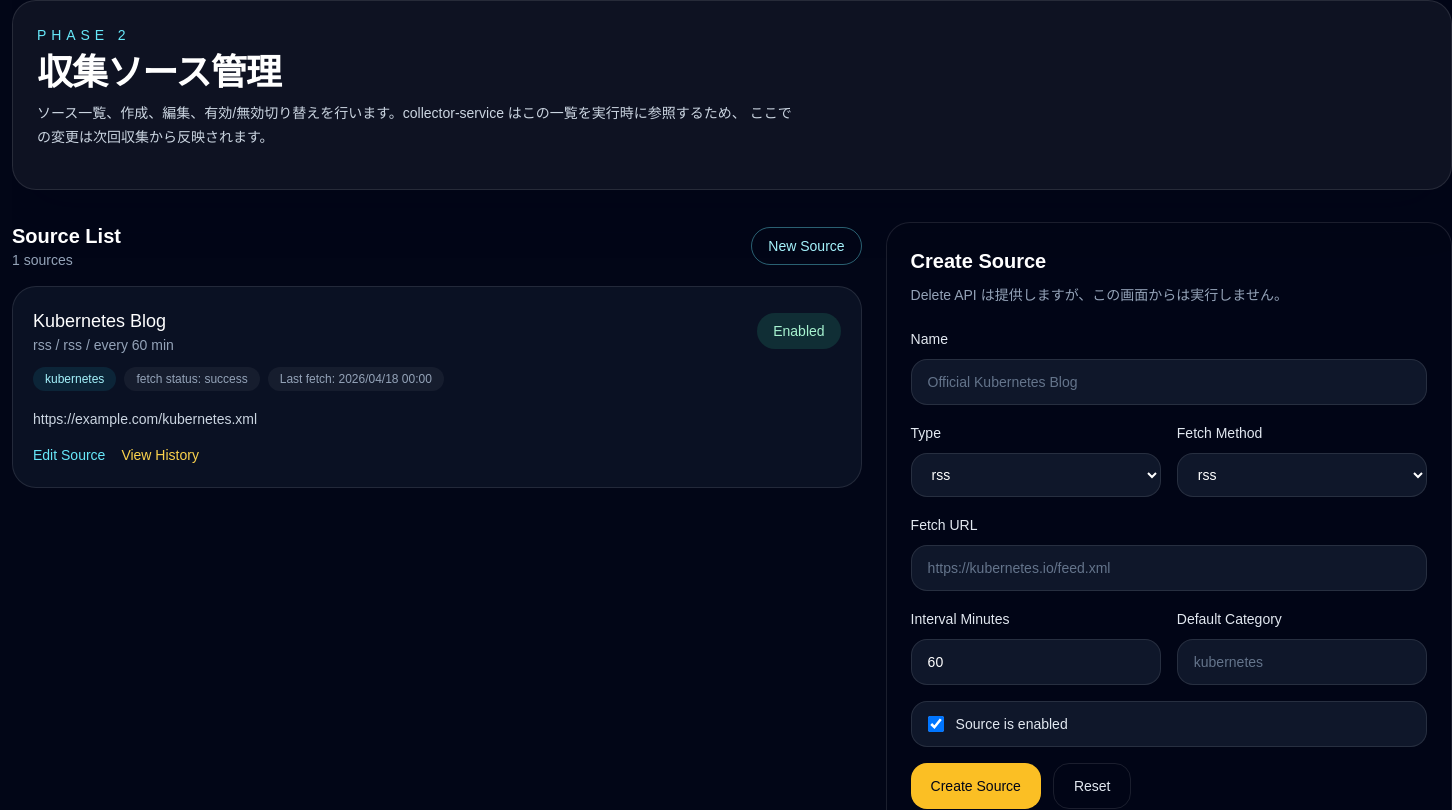
Test case: SourceManagementPage › shows list and toggle API errors
Click the button "Enabled": (799, 331) [757,313,841,349]
(page scrolled)
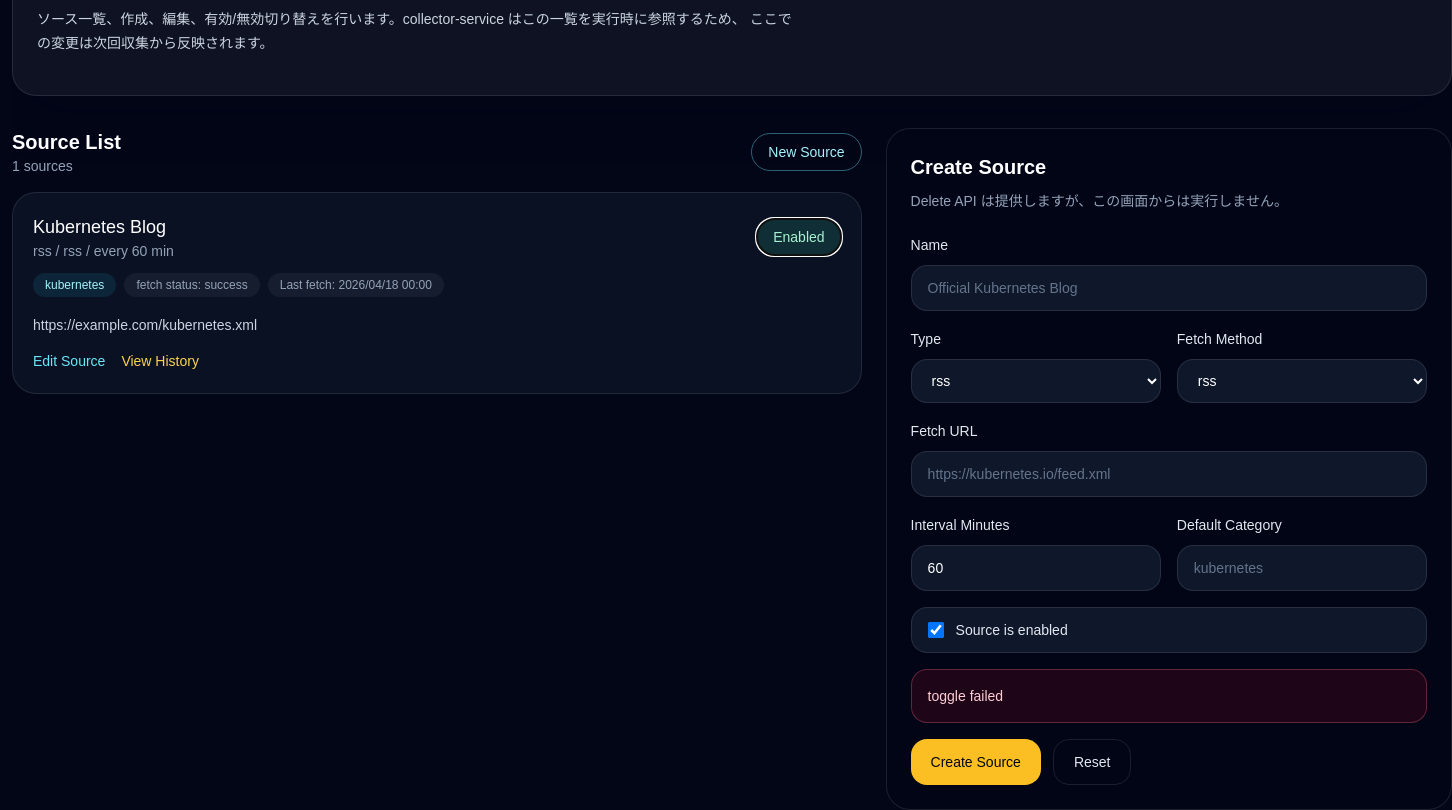
Now the text "toggle failed" is shown, box [911,669,1427,723]
